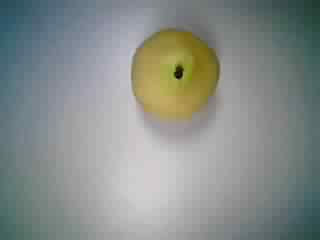pear: (113, 21, 237, 125)
